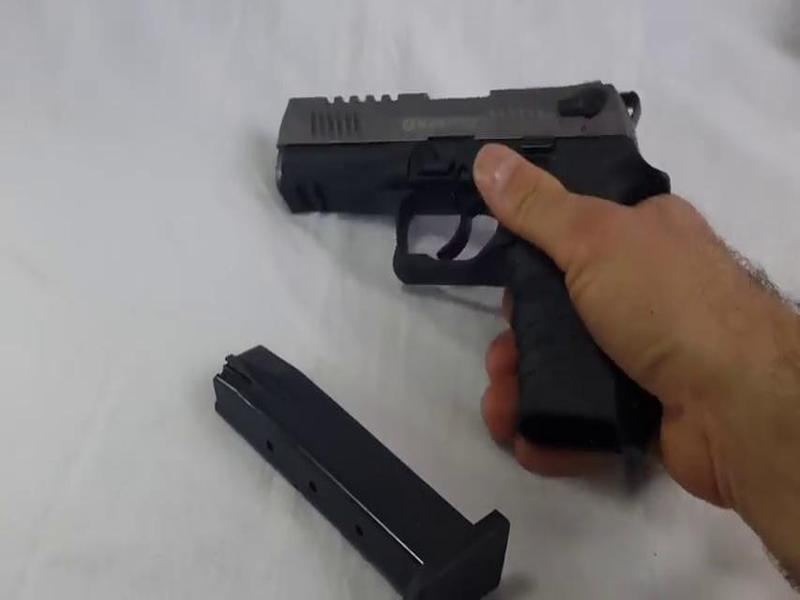Pistola: (227, 52, 667, 457)
